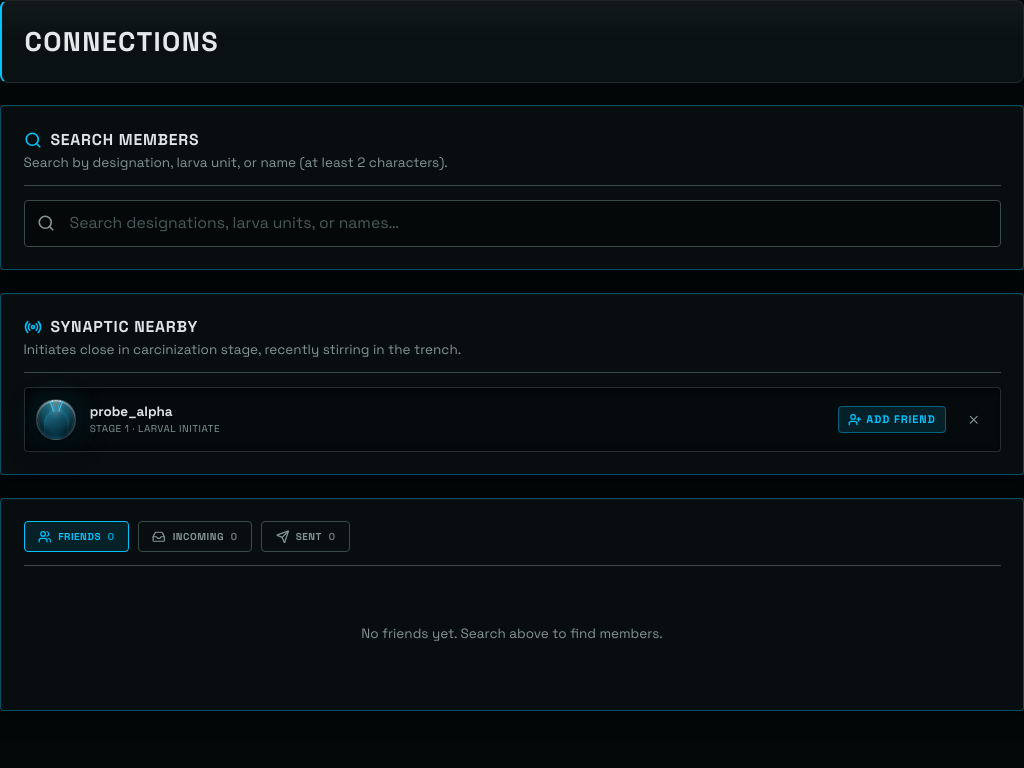
Test: ConnectionsPage › sends a friend request from a nearby card through the existing request path
expect the link "probe_alpha" is shown: met, box [90,403,173,420]
Click the button "Add Friend".
click(892, 419)  # box [838,406,946,433]
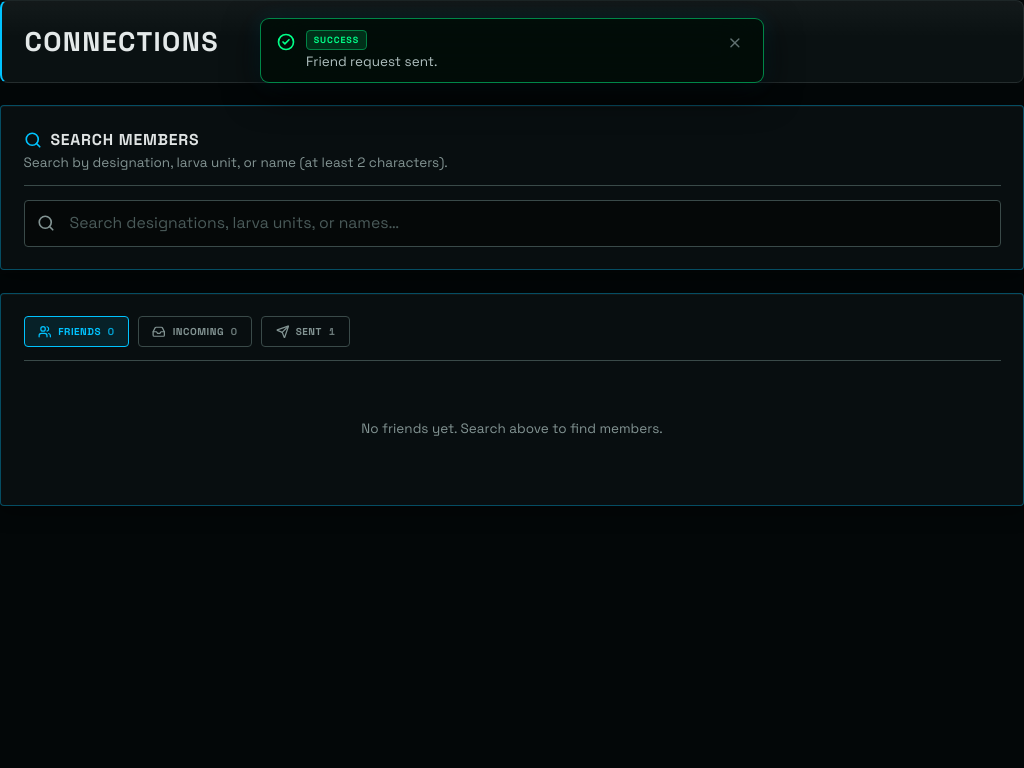
expect the text "Friend request sent." is shown: met, box [306,52,437,70]
expect the heading "Synaptic nearby" is gone: met
expect the button "Sent 1" is shown: met, box [261,316,350,347]
